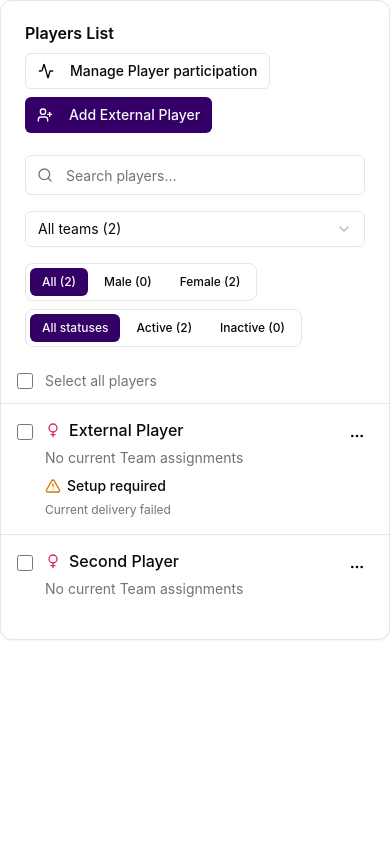
it: PlayersTab External Player administration › keeps mobile select-all and individual selection on the existing batch owner
This screenshot has width=390, height=844.
Click the checkbox labelled "Select all players": (25, 381) [17, 373, 33, 389]
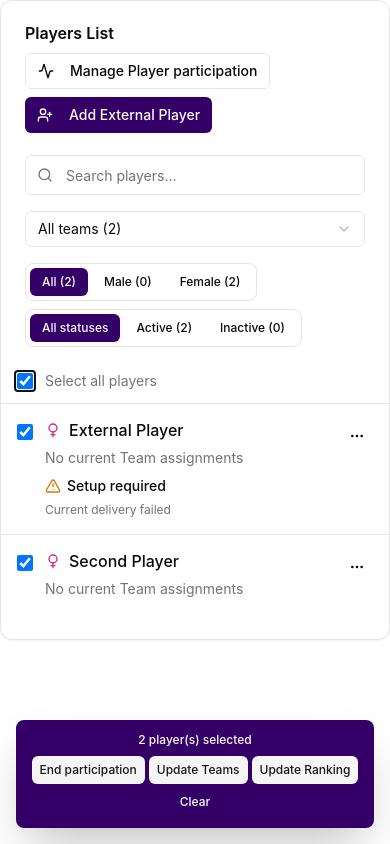
Expected: the checkbox named "Select External Player" is checked, [17, 424, 33, 440]
Expected: the checkbox named "Select Second Player" is checked
Expected: the text "2 player(s) selected" is shown, [138, 732, 252, 747]
Click the checkbox named "Select Second Player": (25, 563) [17, 555, 33, 571]
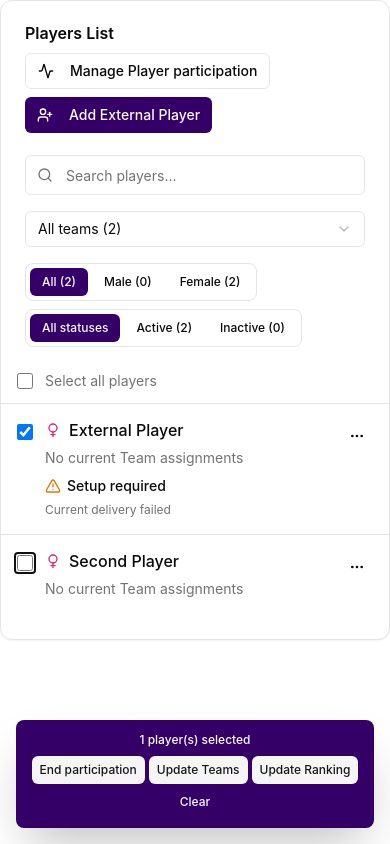
Expected: the text "1 player(s) selected" is shown, [140, 732, 251, 747]
